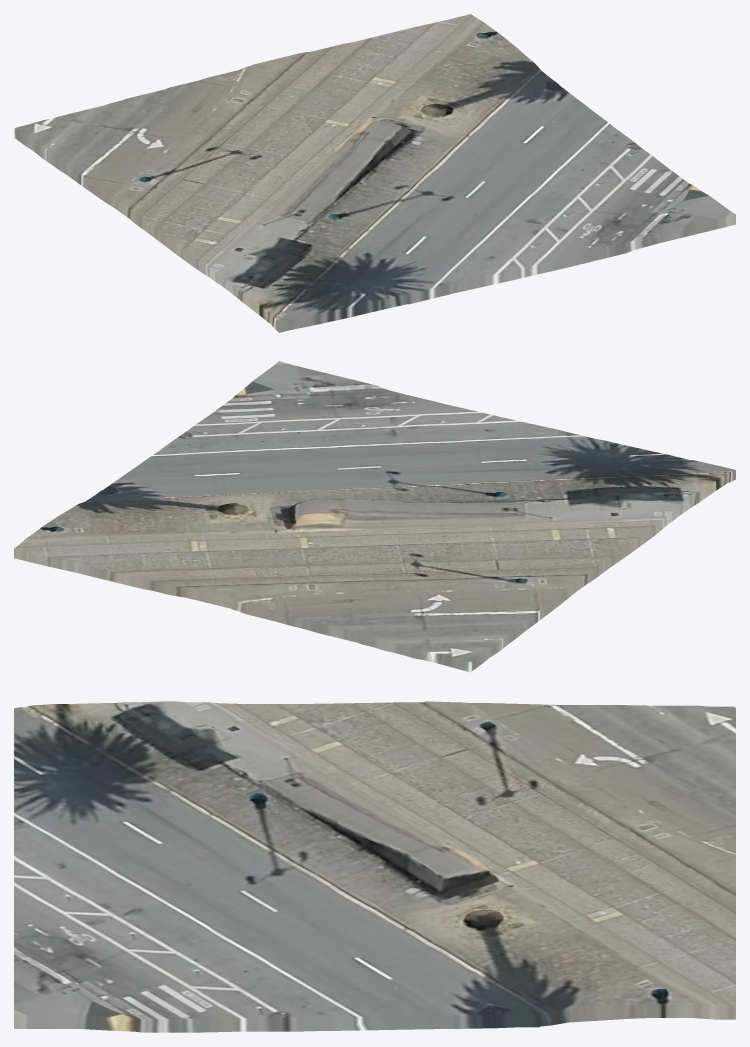
File: z20-167784-405214-h0-yup-uvflip-v3-world.glb
3 views of the same model, one above another, from view 1: azimuth 30°, elevation 25°; view 2: azimuth 150°, elevation 25°; view 3: azimuth 270°, elevation 25° (orthographic). The views are drawn at different scales.
Bounding box in the file's own units: 30.16 × 2 × 30.32.
Materials: 1 (1 with a texture image).
